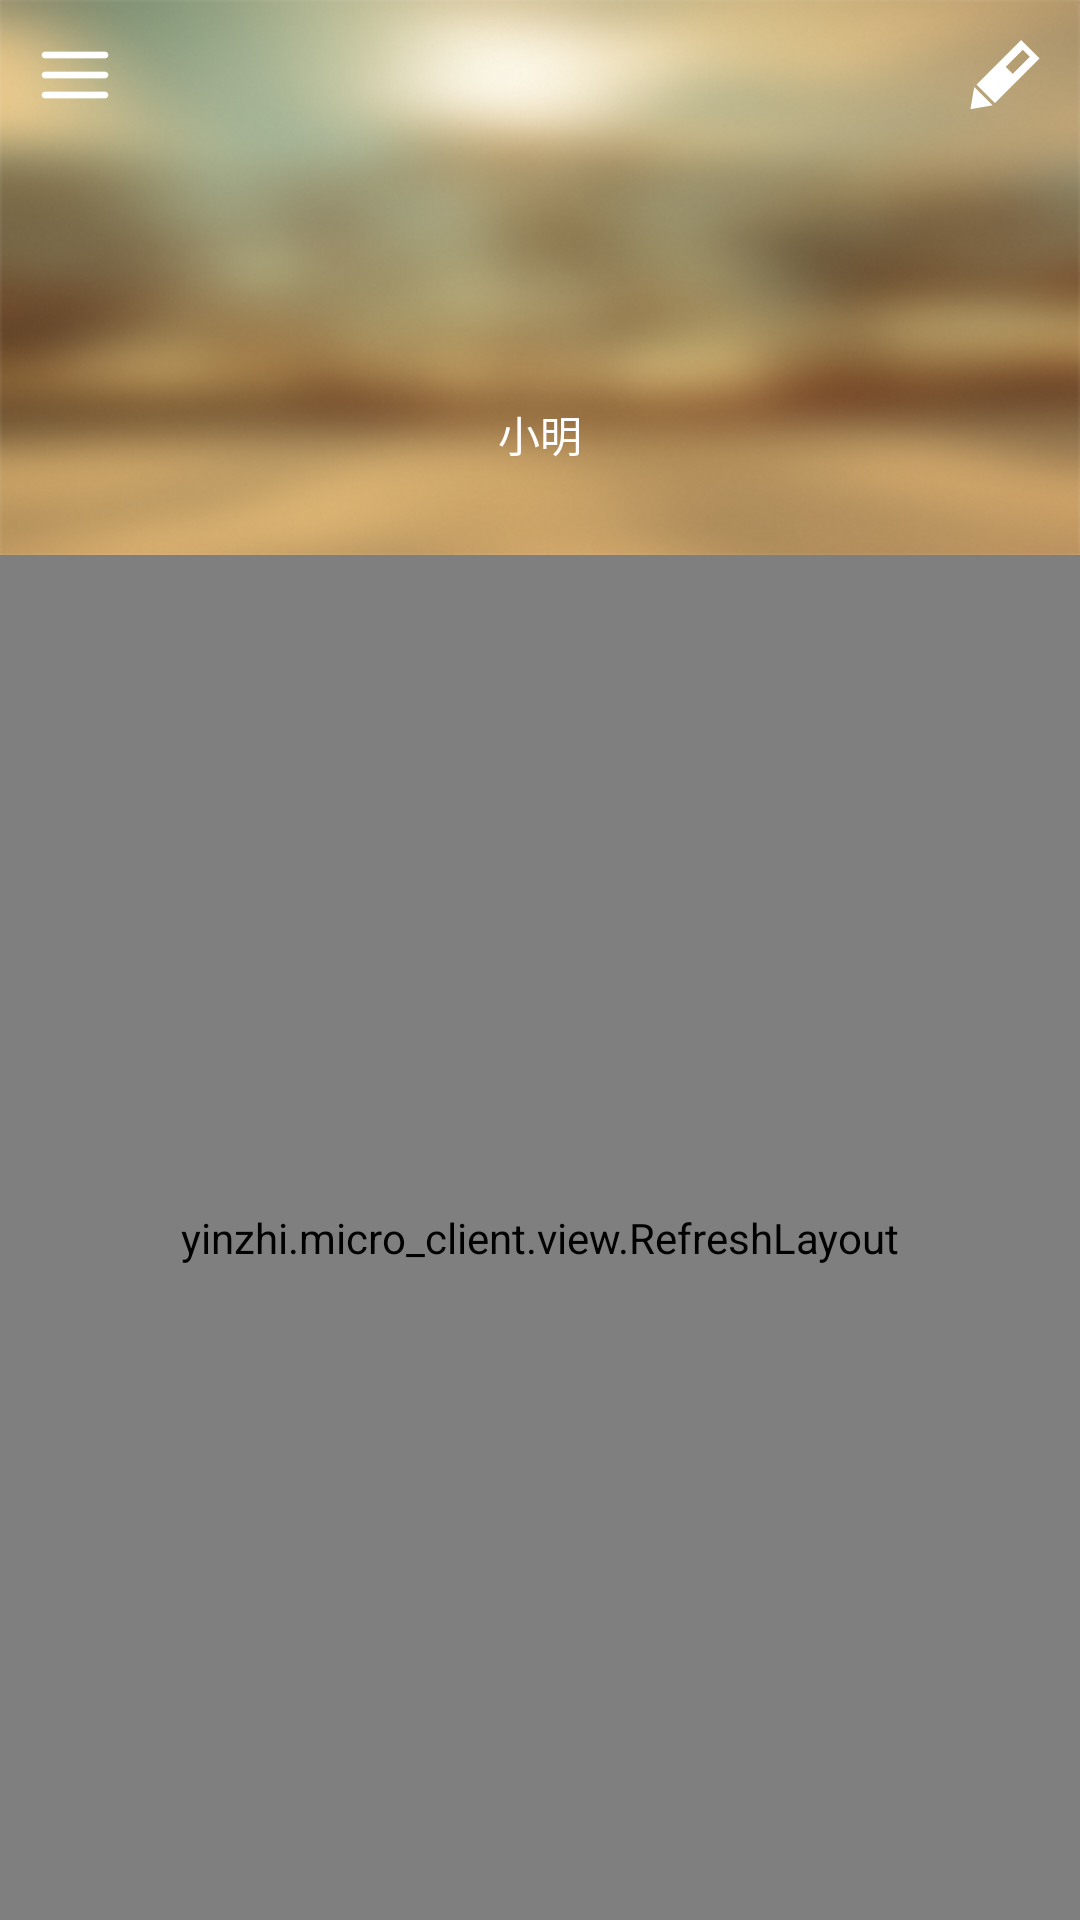

Screen size 1080 x 1920. Icon name, then its box in pixels as (x1, y1, x2, y2):
bar: (0, 1, 150, 139)
edit: (931, 18, 1040, 109)
